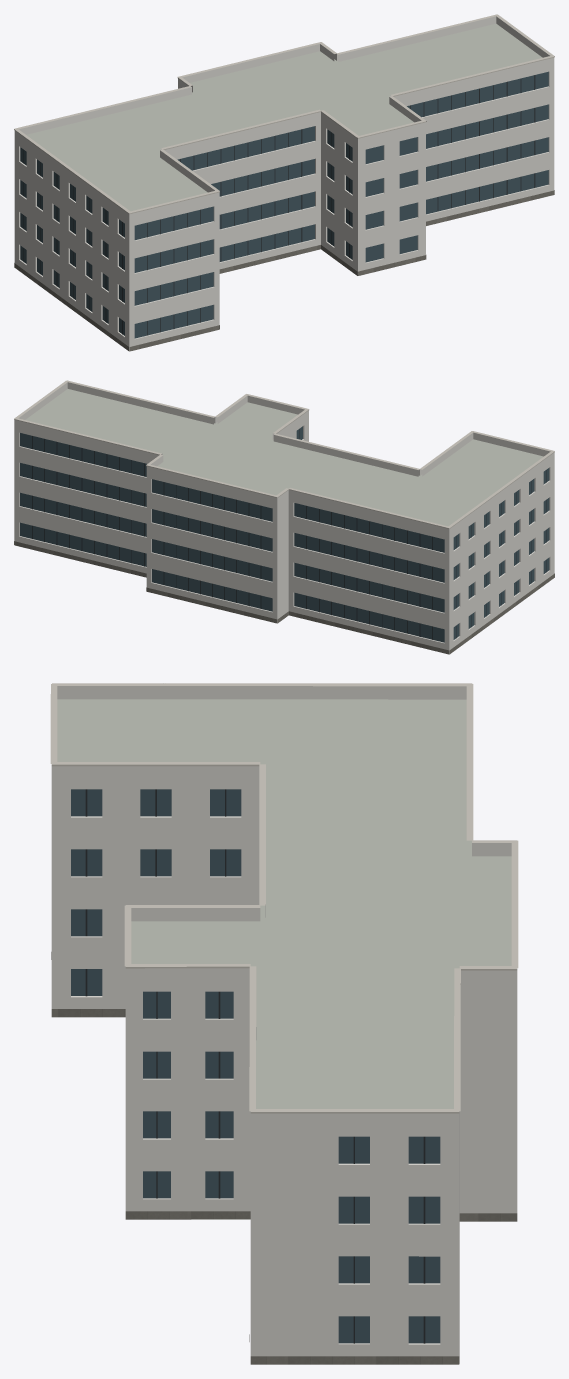
The picture shows the model from 3 angles, top to bottom: view 1: azimuth 30°, elevation 25°; view 2: azimuth 150°, elevation 25°; view 3: azimuth 270°, elevation 25°; orthographic projection. The views are drawn at different scales.
Parts seen in each view (by area): view 1: humanities__wall, humanities__roof, humanities__glass, humanities__parapet, humanities__trim, humanities__base, humanities__frame; view 2: humanities__wall, humanities__roof, humanities__glass, humanities__parapet, humanities__trim, humanities__base, humanities__frame; view 3: humanities__wall, humanities__roof, humanities__glass, humanities__parapet, humanities__trim, humanities__base, humanities__frame.
Part boxes in pixels (left/top/right/bottom): humanities__wall: left=14, top=64, right=554, bottom=351; humanities__roof: left=26, top=23, right=542, bottom=211; humanities__glass: left=20, top=71, right=548, bottom=338; humanities__parapet: left=14, top=16, right=554, bottom=220; humanities__trim: left=14, top=14, right=554, bottom=213; humanities__base: left=14, top=190, right=554, bottom=351; humanities__frame: left=23, top=75, right=535, bottom=335; humanities__wall: left=14, top=416, right=554, bottom=653; humanities__roof: left=25, top=389, right=543, bottom=526; humanities__glass: left=20, top=426, right=549, bottom=642; humanities__parapet: left=14, top=382, right=554, bottom=534; humanities__trim: left=14, top=380, right=554, bottom=528; humanities__base: left=14, top=541, right=554, bottom=654; humanities__frame: left=32, top=429, right=546, bottom=639; humanities__wall: left=51, top=777, right=517, bottom=1363; humanities__roof: left=57, top=699, right=511, bottom=1219; humanities__glass: left=71, top=789, right=440, bottom=1343; humanities__parapet: left=51, top=683, right=517, bottom=1124; humanities__trim: left=50, top=683, right=518, bottom=1113; humanities__base: left=51, top=952, right=517, bottom=1364; humanities__frame: left=85, top=789, right=425, bottom=1343.
Bounding box in the file's own units: 55.26 × 15.22 × 25.48.
Materials: 7 (1 with a texture image).
